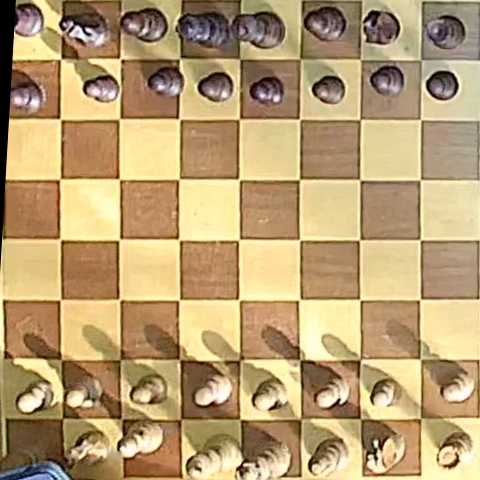black-bishop: (122, 8, 168, 43), (304, 6, 346, 41)
black-king: (233, 12, 284, 48)
black-knight: (60, 11, 110, 48), (363, 10, 400, 45)
black-pawn: (148, 67, 183, 98), (370, 65, 404, 96), (198, 72, 233, 102), (10, 84, 44, 114), (250, 76, 284, 105), (84, 75, 119, 103), (426, 70, 458, 100), (313, 76, 346, 104)
black-queen: (178, 11, 232, 47)
black-rook: (425, 15, 465, 50), (15, 3, 44, 36)
white-bishop: (118, 420, 162, 458), (309, 437, 349, 477)
white-king: (237, 440, 292, 480)
white-knight: (365, 431, 406, 473), (67, 430, 109, 467)
white-pawn: (194, 372, 233, 407), (17, 380, 56, 414), (314, 374, 349, 408), (66, 376, 102, 409), (440, 370, 475, 403), (253, 378, 288, 411), (130, 375, 166, 405), (371, 379, 400, 407)
white-queen: (187, 435, 243, 479)
white-rook: (437, 432, 473, 469), (1, 449, 37, 472)
